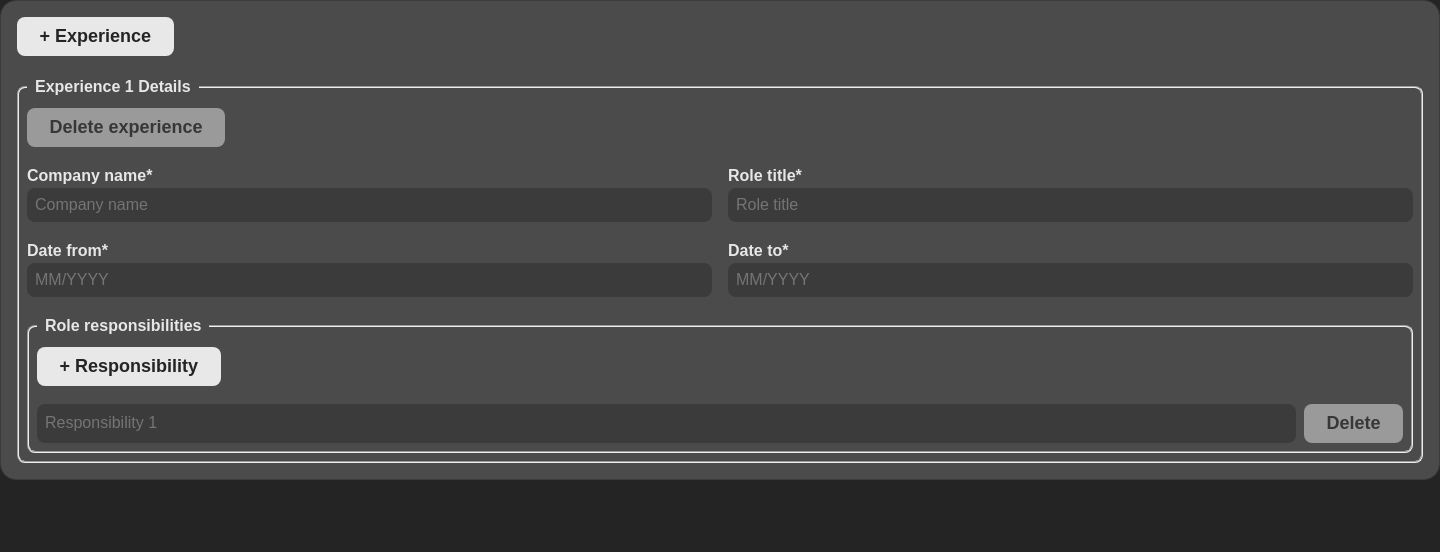
Test: Testing the Experience component › Testing buttons and inputs › Clicking delete responsibility button deletes a responsibility
Click the button "+ Responsibility": (129, 366) [37, 347, 220, 386]
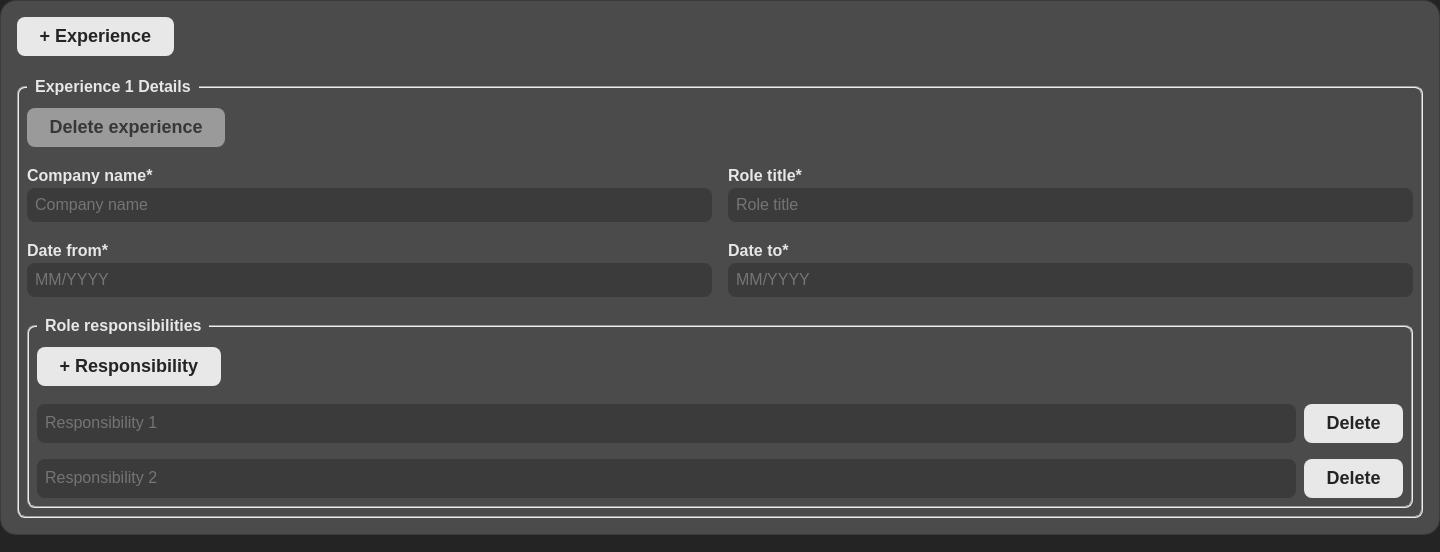
Expected: the number of fields labelled "Delete" is 2, [37, 404, 1296, 443]; [37, 459, 1296, 498]
Click the 1st button "Delete": (1354, 423) [1304, 404, 1403, 443]
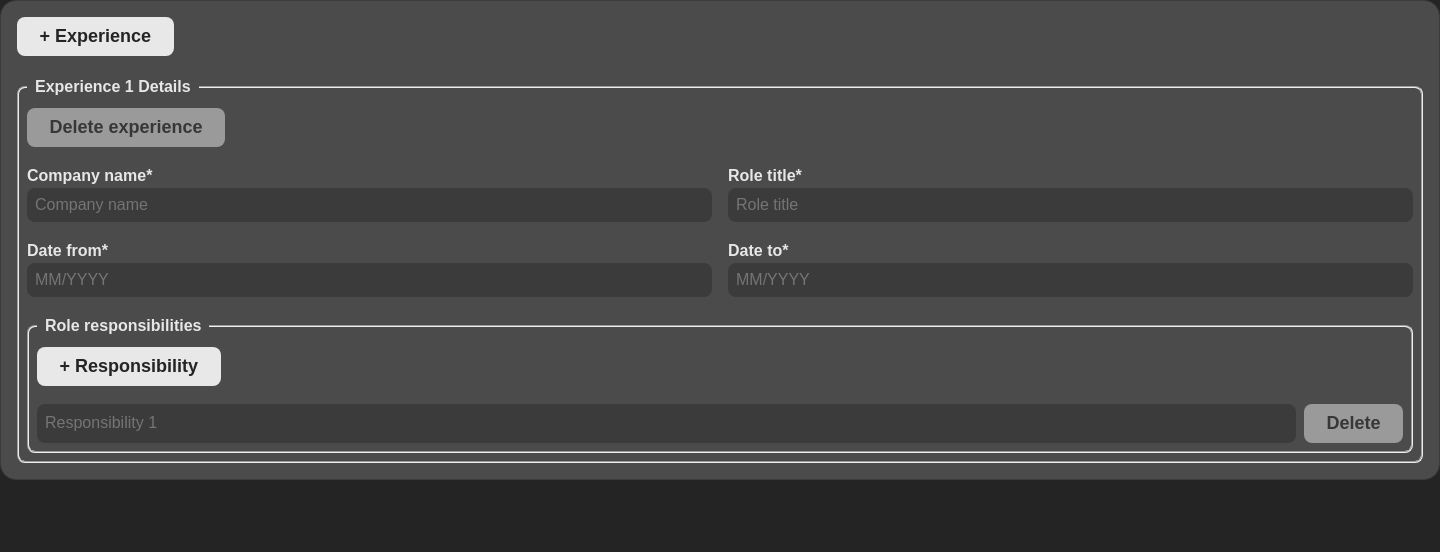
Expected: the number of fields labelled "Delete" is 1, [37, 404, 1296, 443]
